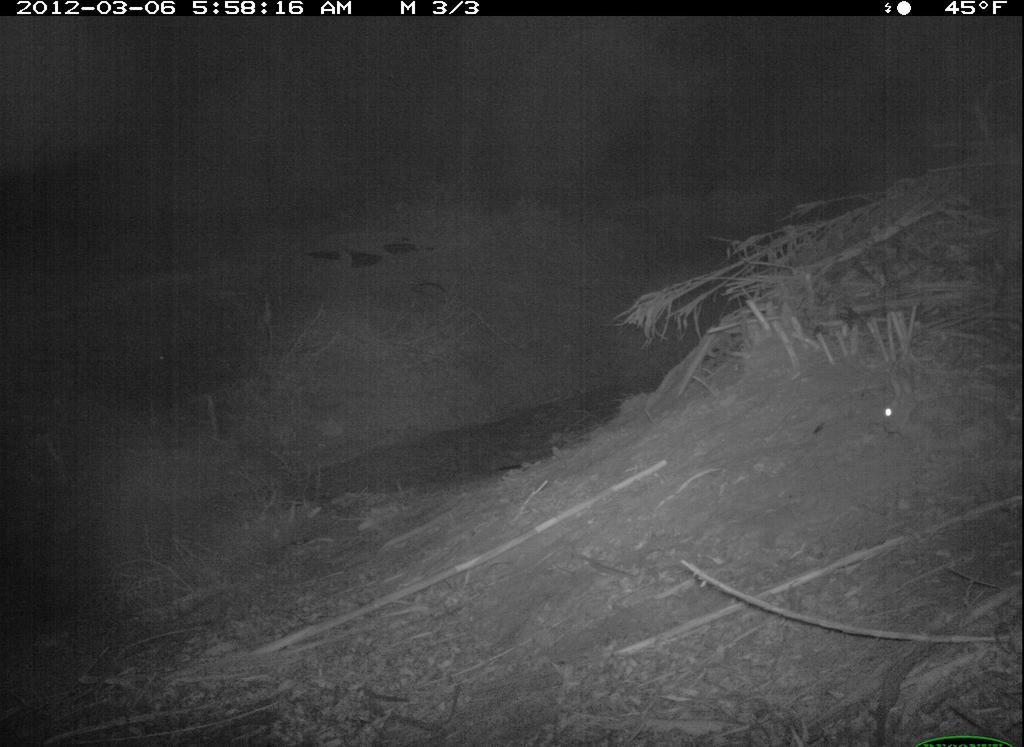rabbit: (878, 357, 1018, 473)
